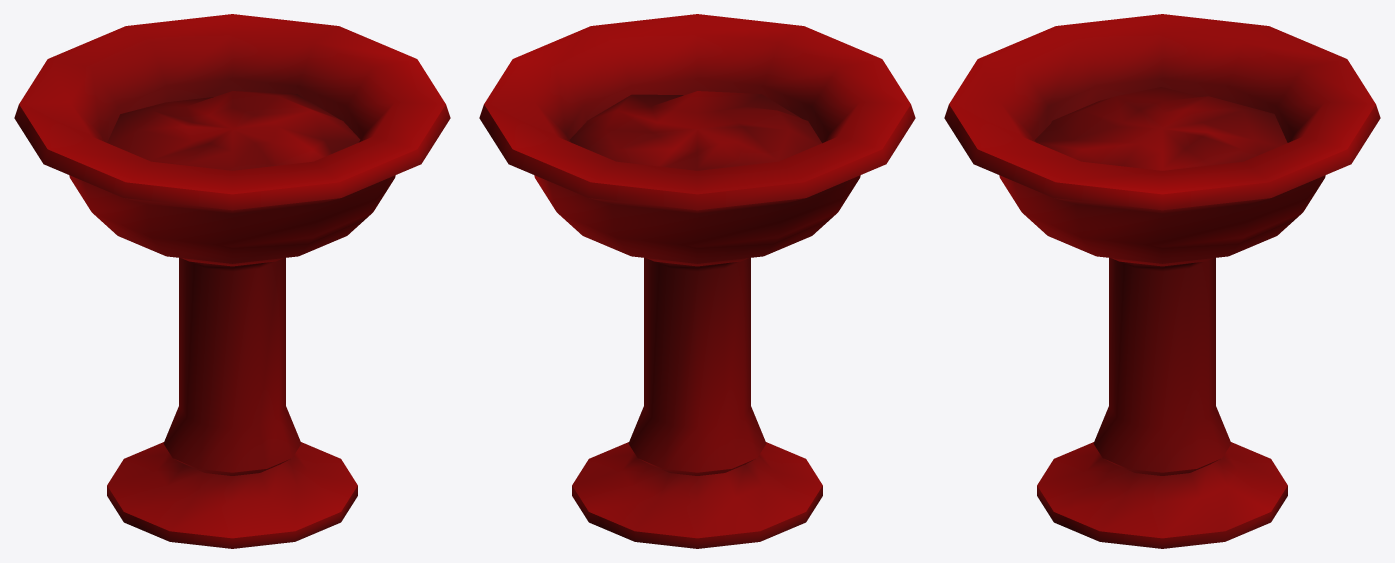
File: TerracottaBrazier.glb
The picture shows the model from 3 angles, left to right: view 1: azimuth 30°, elevation 25°; view 2: azimuth 150°, elevation 25°; view 3: azimuth 270°, elevation 25°; orthographic projection.
Visible parts, largest first — view 1: TerracottaBrazier; view 2: TerracottaBrazier; view 3: TerracottaBrazier.
Part boxes in pixels (box(x1,y1,x2,y2)): TerracottaBrazier: box(14, 14, 450, 548); TerracottaBrazier: box(479, 14, 915, 548); TerracottaBrazier: box(944, 14, 1380, 548).
Size of the model in its own units: 4.38 by 4.36 by 4.38.
